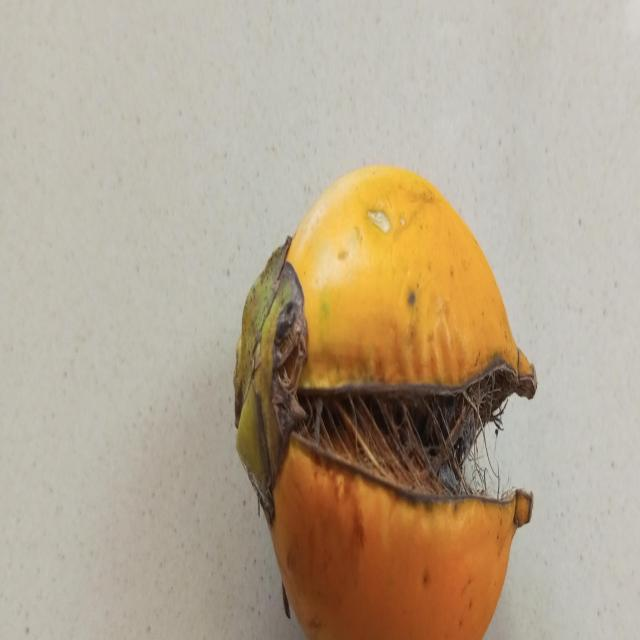damaged: (235, 166, 538, 640)
